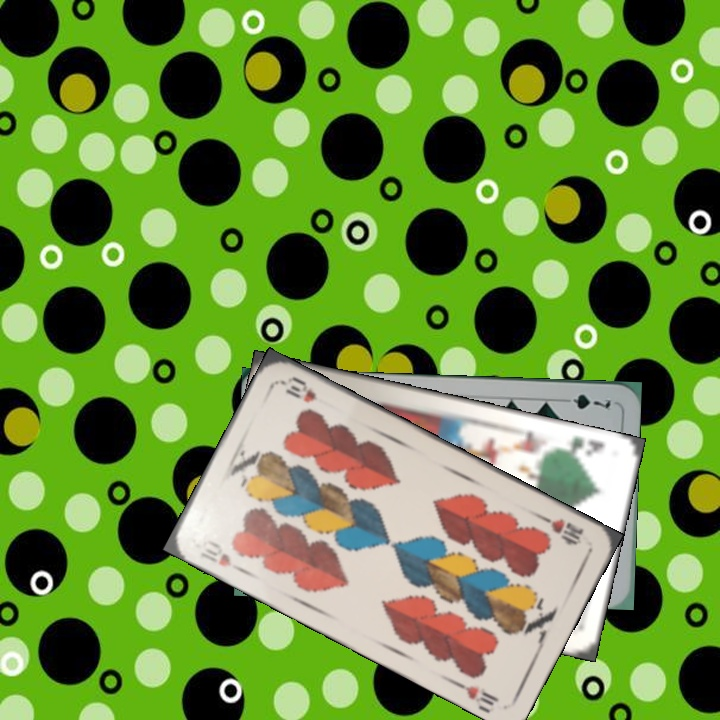G7: (556, 390, 613, 412)
GK: (556, 433, 607, 459)
H10: (196, 535, 247, 575), (536, 511, 587, 548)
